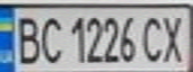1: (63, 12, 87, 64)
2: (84, 12, 106, 64), (103, 12, 121, 64)
6: (118, 12, 142, 64)
B: (9, 11, 42, 65)
C: (36, 11, 66, 65), (139, 11, 166, 64)
X: (157, 11, 190, 64)
